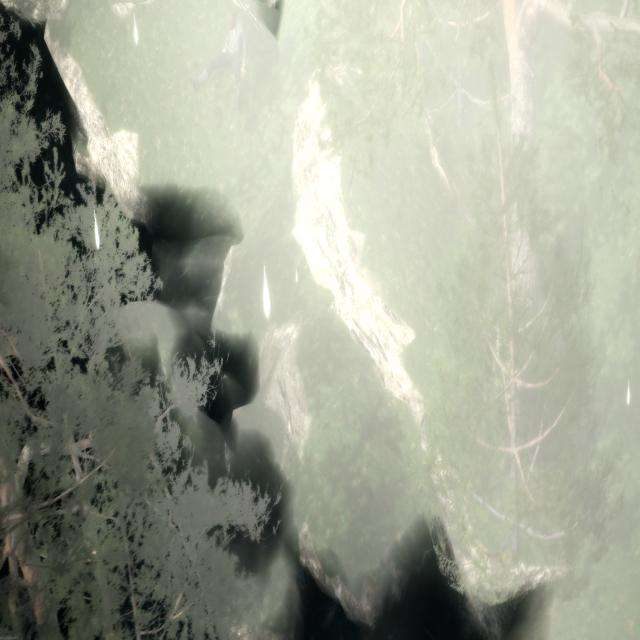Human: (189, 2, 251, 117)
